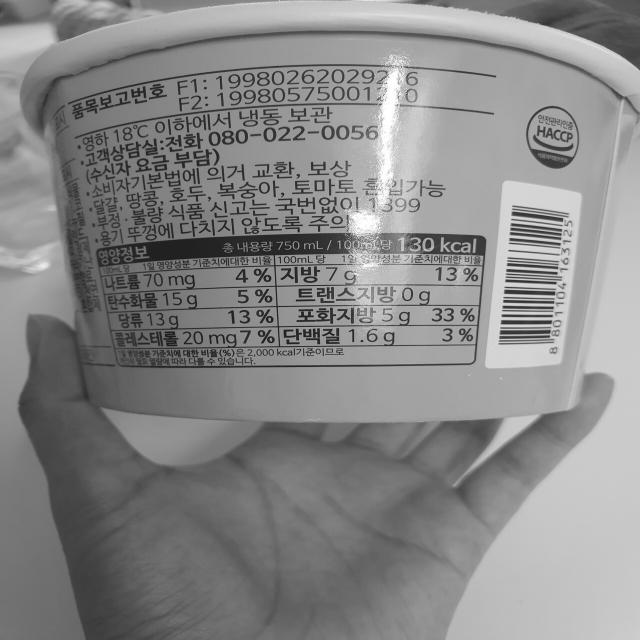Nutrition Label: (87, 230, 492, 374)
